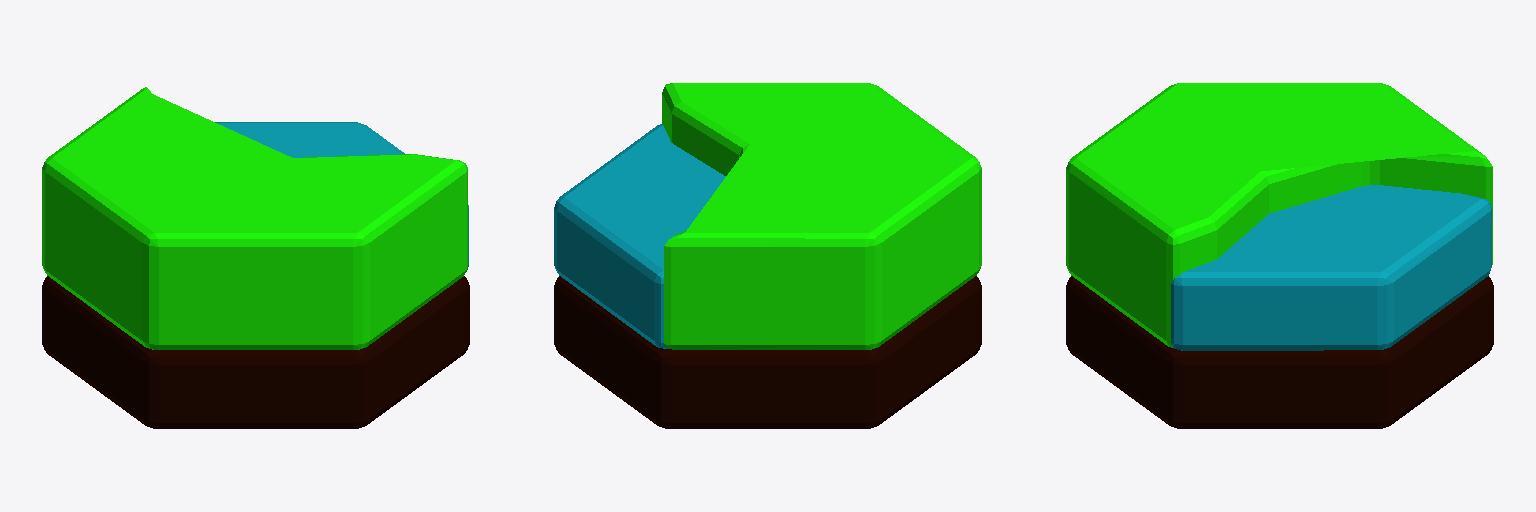
The model's file is ground_water_grass.obj.
3 views of the same model, side by side, from view 1: azimuth 30°, elevation 25°; view 2: azimuth 150°, elevation 25°; view 3: azimuth 270°, elevation 25° (orthographic).
Parts seen in each view (by area): view 1: ground_water_grass; view 2: ground_water_grass; view 3: ground_water_grass.
Part boxes in pixels (left/top/right/bottom): ground_water_grass: left=42, top=87, right=469, bottom=428; ground_water_grass: left=554, top=83, right=981, bottom=428; ground_water_grass: left=1066, top=83, right=1493, bottom=428.
Bounding box in the file's own units: 6.93 × 4 × 7.9.